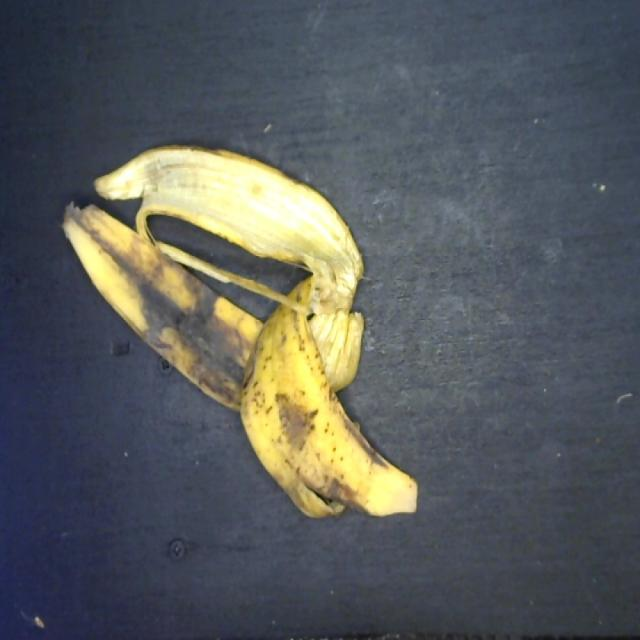biodegradable: (53, 137, 424, 528)
